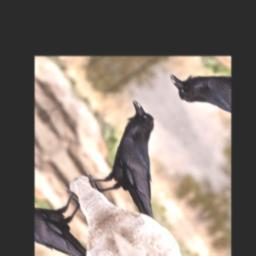Crow: (65, 94, 205, 237)
